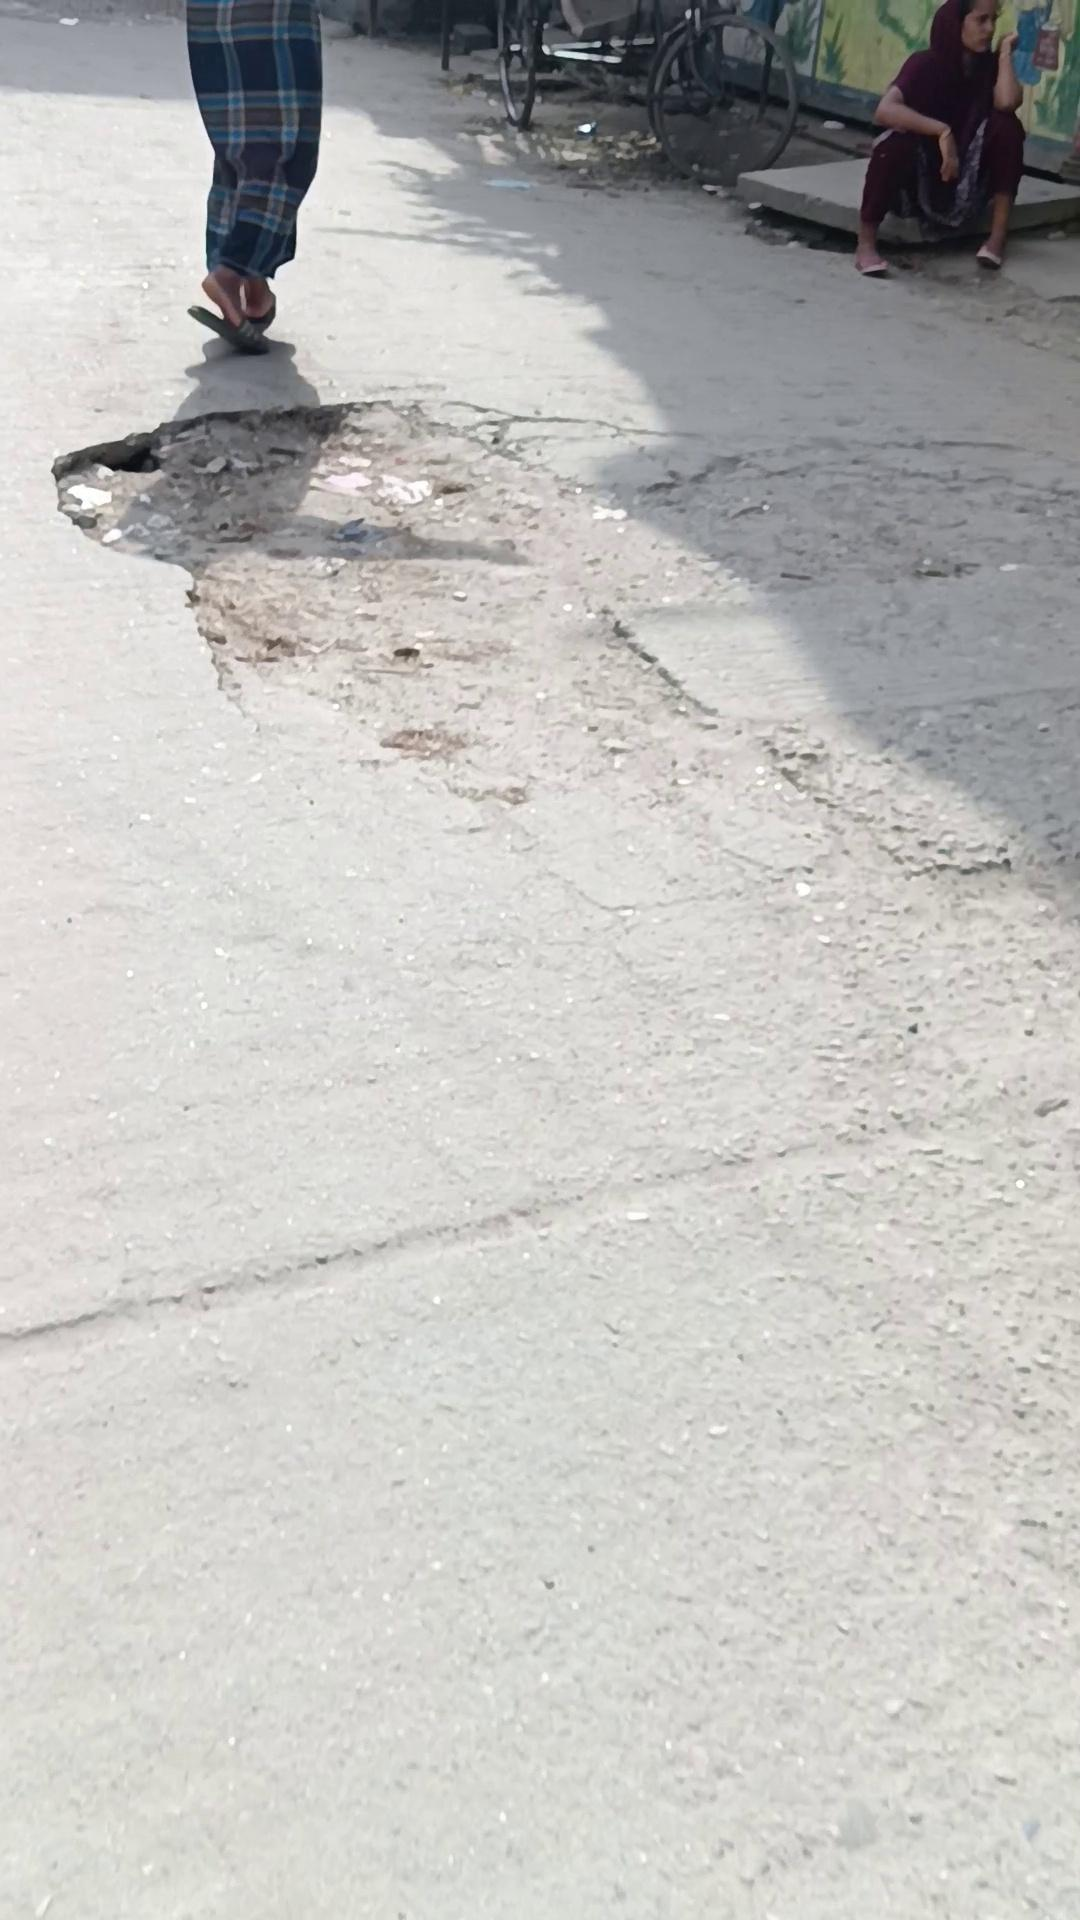Broken-road: (0, 0, 1080, 1920)
Crosswalk: (733, 150, 1077, 251)
Muddy road: (183, 0, 324, 353), (852, 0, 1026, 277)
Pothole: (491, 0, 800, 185)
